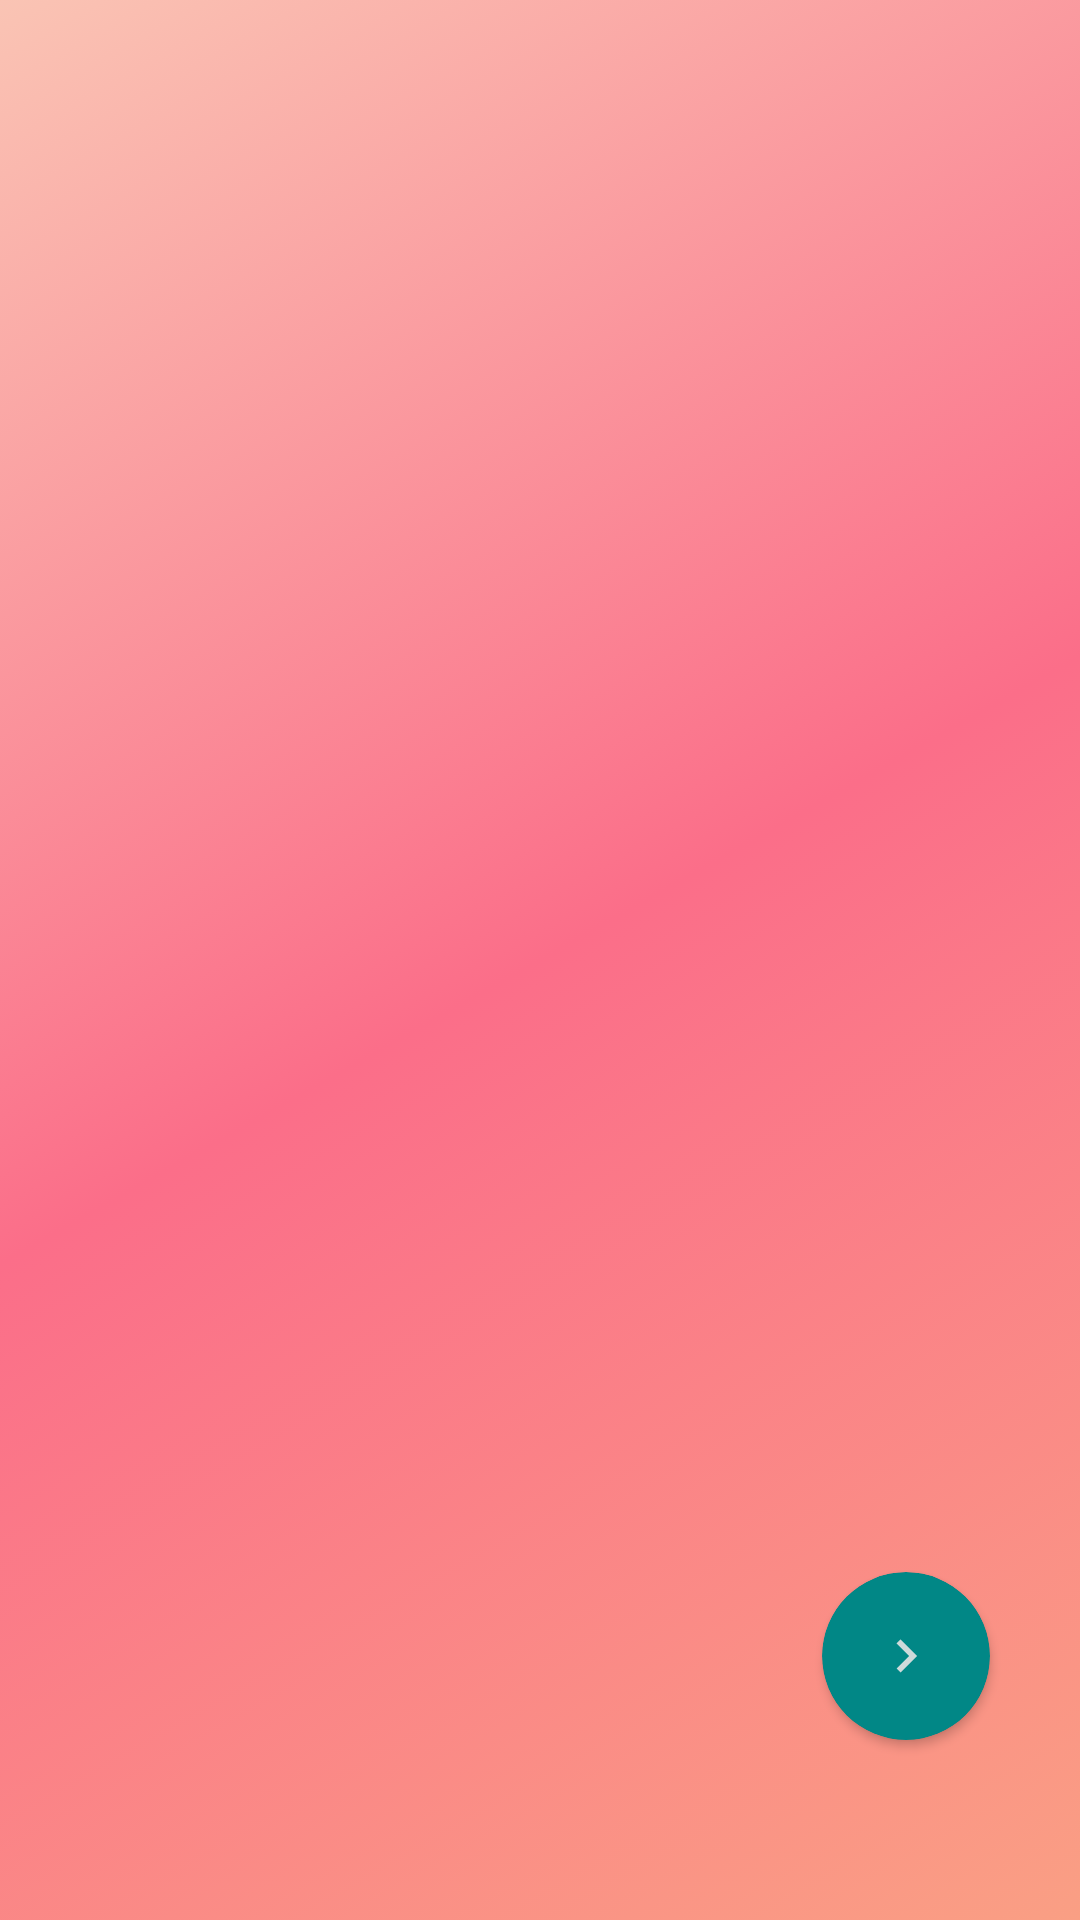

Icon click points for this 1080 × 1920 phone screenshot, format (x,y):
navigate next: (906,1656)
